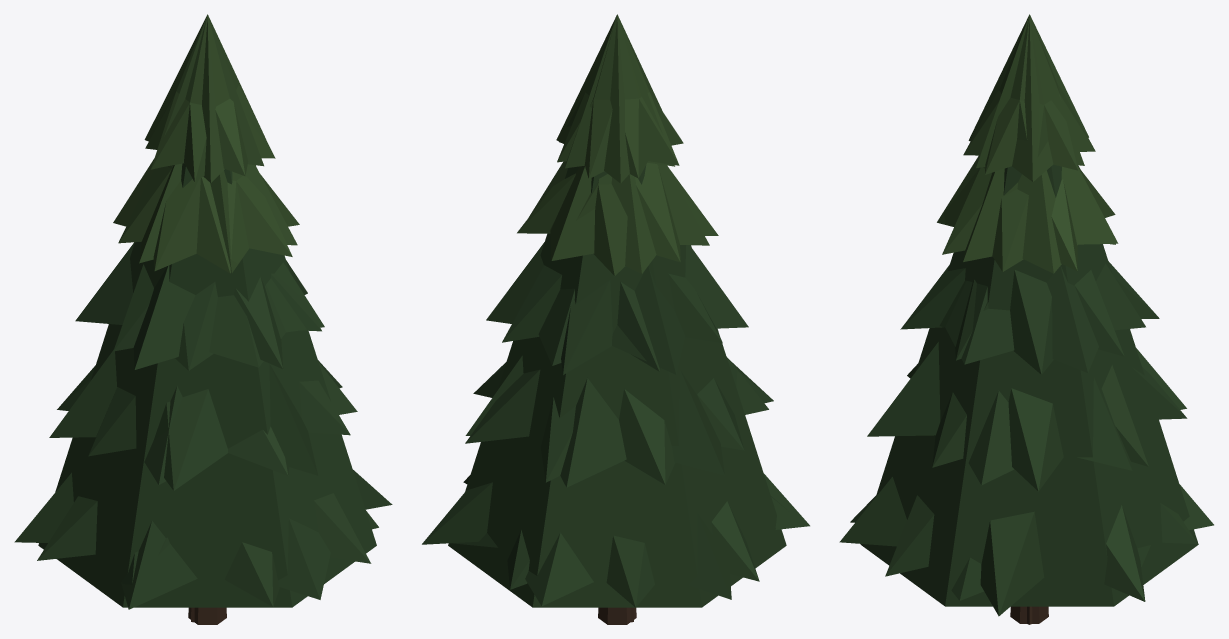
File: tree-pine.glb
3 views of the same model, side by side, from view 1: azimuth 30°, elevation 25°; view 2: azimuth 150°, elevation 25°; view 3: azimuth 270°, elevation 25° (orthographic).
Visible parts, largest first — view 1: lod2_canopy, lod0_tier1, lod0_tier3, lod1_tier2, lod0_tier4, lod1_tier0, lod0_tier0, lod1_tier1, lod0_tier2, lod1_tier4, lod1_tier3, lod0_trunk; view 2: lod2_canopy, lod0_tier1, lod0_tier2, lod1_tier1, lod1_tier2, lod0_tier0, lod0_tier4, lod0_tier3, lod1_tier3, lod1_tier0, lod1_tier4, lod0_trunk; view 3: lod2_canopy, lod0_tier0, lod0_tier1, lod0_tier2, lod1_tier1, lod1_tier2, lod1_tier3, lod0_tier4, lod0_tier3, lod1_tier4, lod1_tier0, lod0_trunk.
Part boxes in pixels (<box>): lod2_canopy: <box>38,163,376,607</box>; lod0_tier1: <box>57,360,350,490</box>; lod0_tier3: <box>118,165,299,273</box>; lod1_tier2: <box>75,242,324,369</box>; lod0_tier4: <box>145,14,275,182</box>; lod1_tier0: <box>14,472,378,609</box>; lod0_tier0: <box>37,470,392,606</box>; lod1_tier1: <box>49,349,357,484</box>; lod0_tier2: <box>113,260,321,370</box>; lod1_tier4: <box>144,14,264,182</box>; lod1_tier3: <box>113,158,297,273</box>; lod0_trunk: <box>188,607,226,624</box>; lod2_canopy: <box>448,165,786,607</box>; lod0_tier1: <box>465,359,773,484</box>; lod0_tier2: <box>502,265,722,374</box>; lod1_tier1: <box>465,355,768,487</box>; lod1_tier2: <box>486,242,748,374</box>; lod0_tier0: <box>422,475,790,607</box>; lod0_tier4: <box>557,14,683,178</box>; lod0_tier3: <box>517,162,718,275</box>; lod1_tier3: <box>528,161,709,273</box>; lod1_tier0: <box>452,474,809,606</box>; lod1_tier4: <box>556,15,674,183</box>; lod0_trunk: <box>598,607,636,624</box>; lod2_canopy: <box>860,164,1198,606</box>; lod0_tier0: <box>850,495,1197,616</box>; lod0_tier1: <box>907,363,1187,491</box>; lod0_tier2: <box>900,261,1159,374</box>; lod1_tier1: <box>867,342,1186,485</box>; lod1_tier2: <box>939,263,1145,372</box>; lod1_tier3: <box>937,155,1118,273</box>; lod0_tier4: <box>963,14,1095,180</box>; lod0_tier3: <box>942,167,1115,271</box>; lod1_tier4: <box>968,15,1088,181</box>; lod1_tier0: <box>839,477,1213,600</box>; lod0_trunk: <box>1010,606,1048,623</box>.
Bounding box in the file's own units: 4.3 × 7.6 × 4.29.
